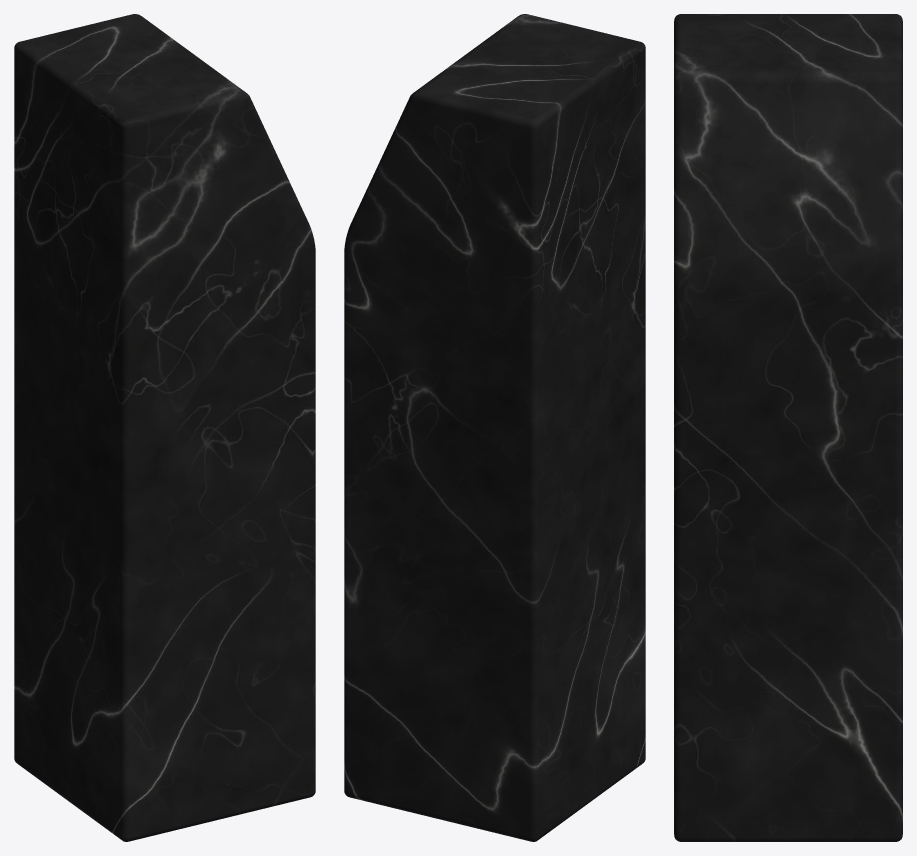
Rendered from bishop-black.glb.
The picture shows the model from 3 angles, left to right: view 1: azimuth 30°, elevation 25°; view 2: azimuth 150°, elevation 25°; view 3: azimuth 270°, elevation 25°; orthographic projection.
Parts seen in each view (by area): view 1: strelec_cerny; view 2: strelec_cerny; view 3: strelec_cerny.
Part boxes in pixels (x1,y1,x2,y2): strelec_cerny: (14, 14, 315, 841); strelec_cerny: (344, 14, 645, 841); strelec_cerny: (674, 14, 902, 841).
Size of the model in its own units: 0.4281 by 1.52 by 0.4281.
1 material, 1 textured.
